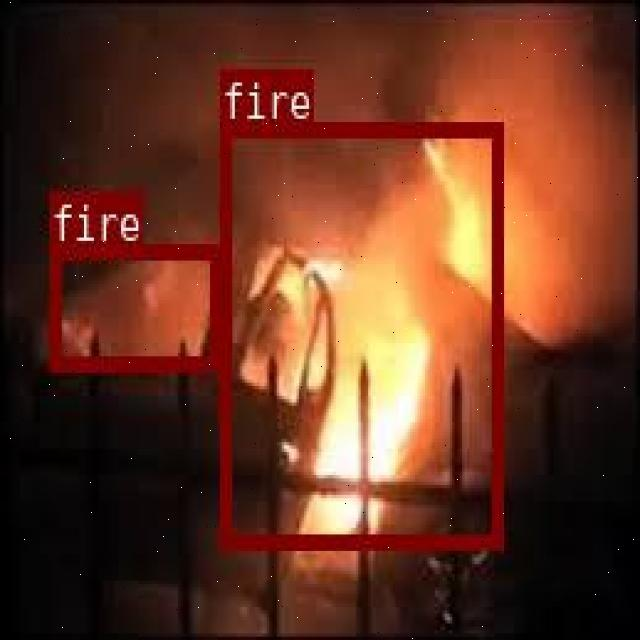fire: (220, 121, 500, 547), (47, 243, 219, 367)
